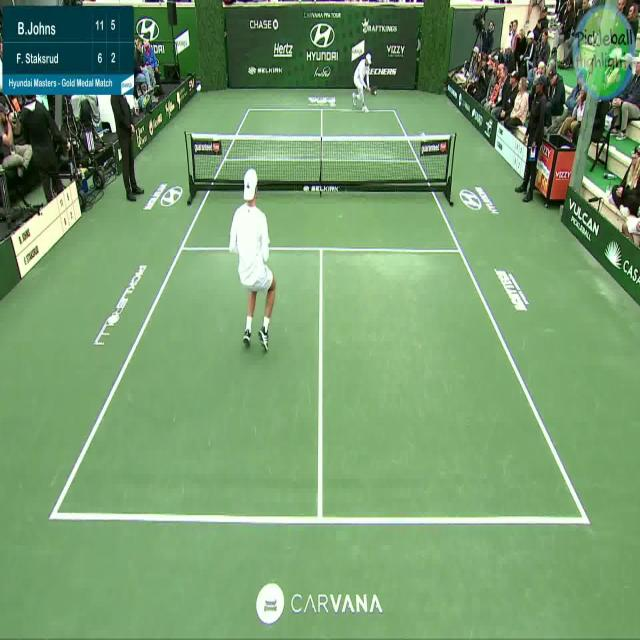ball: (374, 90, 377, 95)
